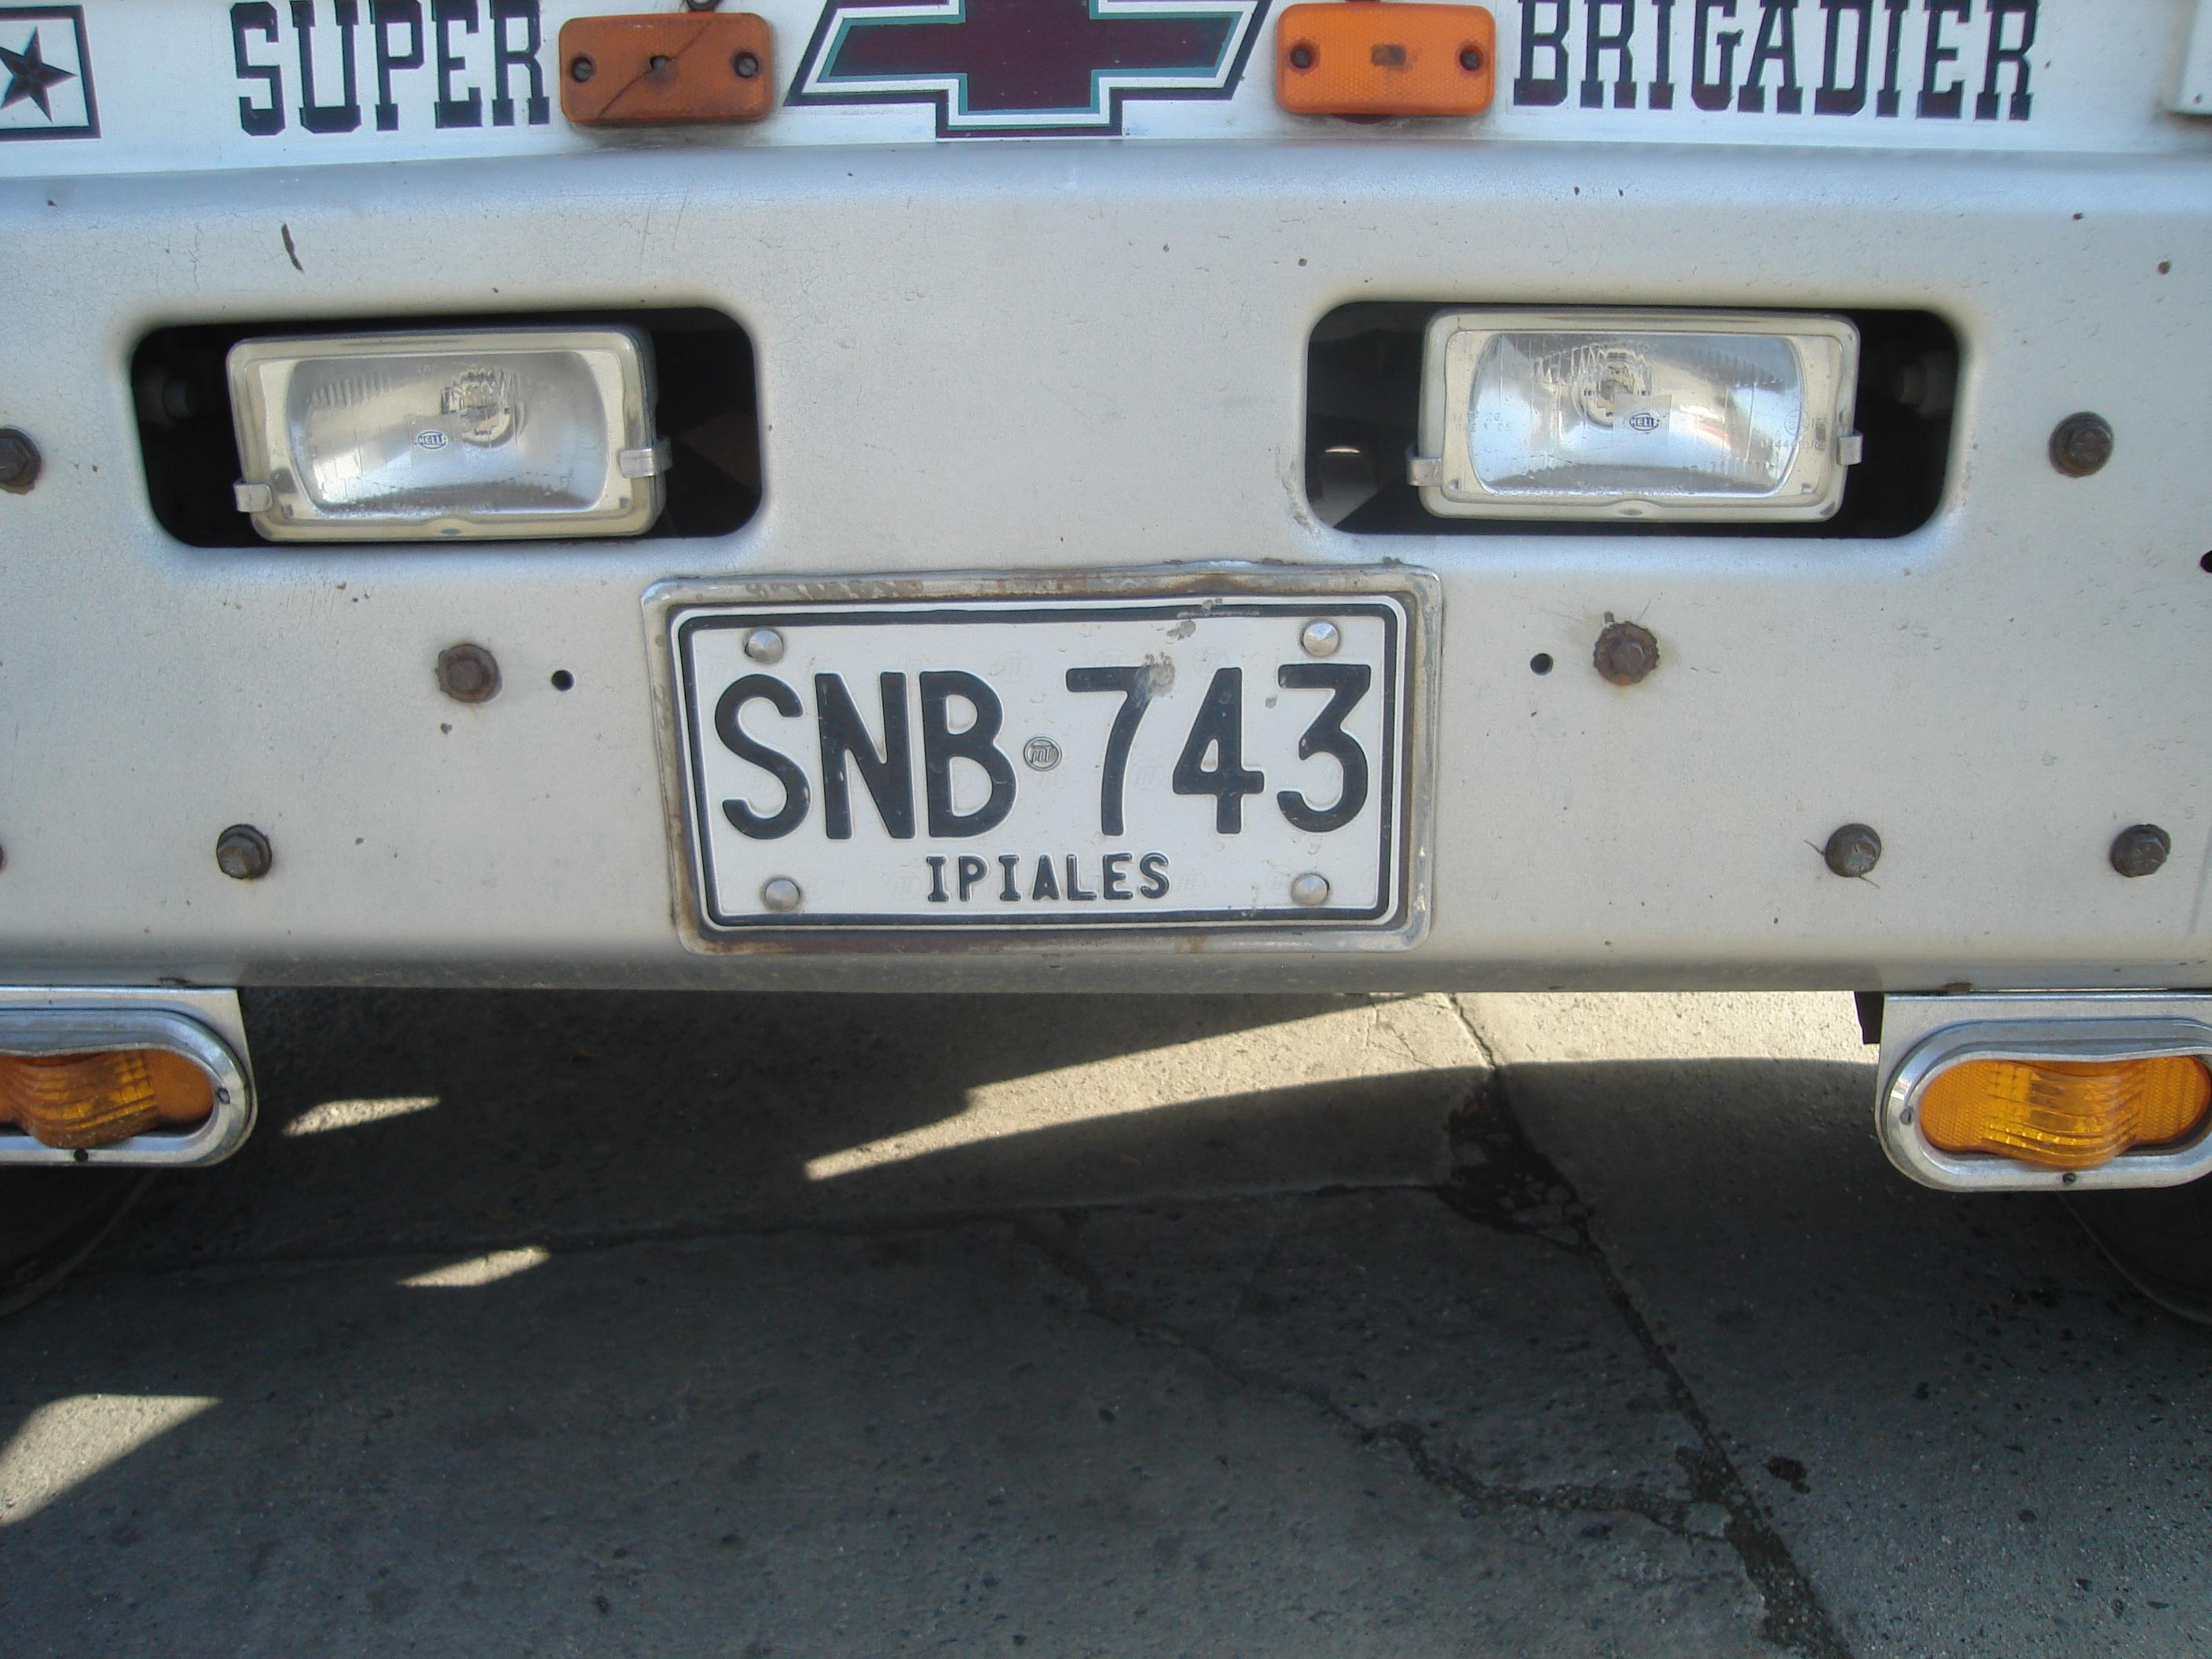placas: (657, 581, 1423, 949)
